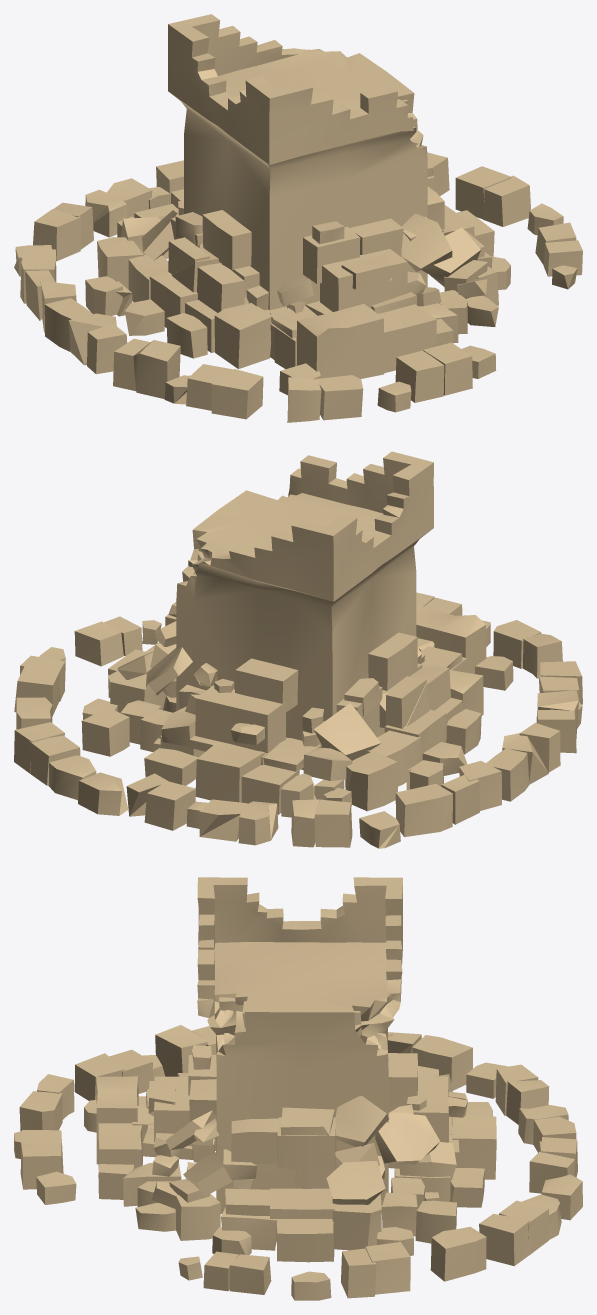
The model's file is castle_d4.6.glb.
The picture shows the model from 3 angles, top to bottom: view 1: azimuth 30°, elevation 25°; view 2: azimuth 150°, elevation 25°; view 3: azimuth 270°, elevation 25°; orthographic projection. The views are drawn at different scales.
Parts seen in each view (by area): view 1: castle; view 2: castle; view 3: castle.
Boxes of the visible parts, left/top/right/bottom form: castle: left=14, top=14, right=582, bottom=422; castle: left=14, top=451, right=582, bottom=848; castle: left=14, top=877, right=582, bottom=1300.
Size of the model in its own units: 2.9 by 1.44 by 2.89.
